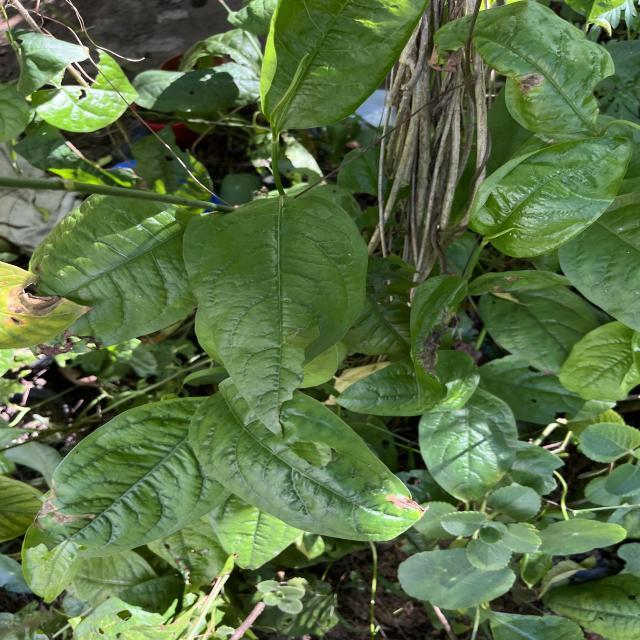Plumbago indica: (182, 193, 372, 435), (178, 378, 430, 544), (38, 399, 230, 559), (464, 133, 634, 261), (411, 392, 520, 507)
